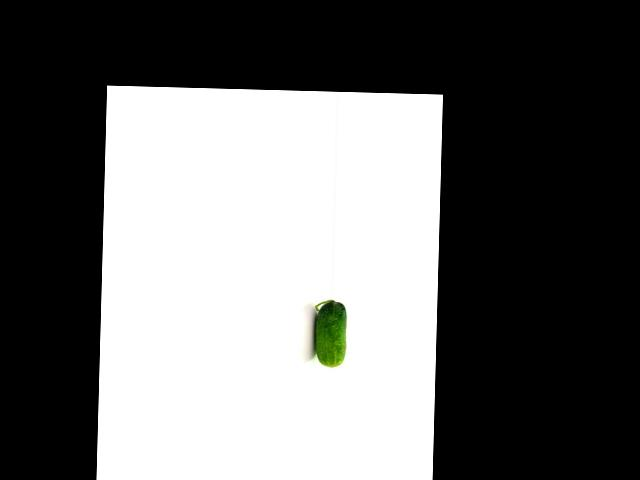cucumber: (313, 300, 346, 368)
